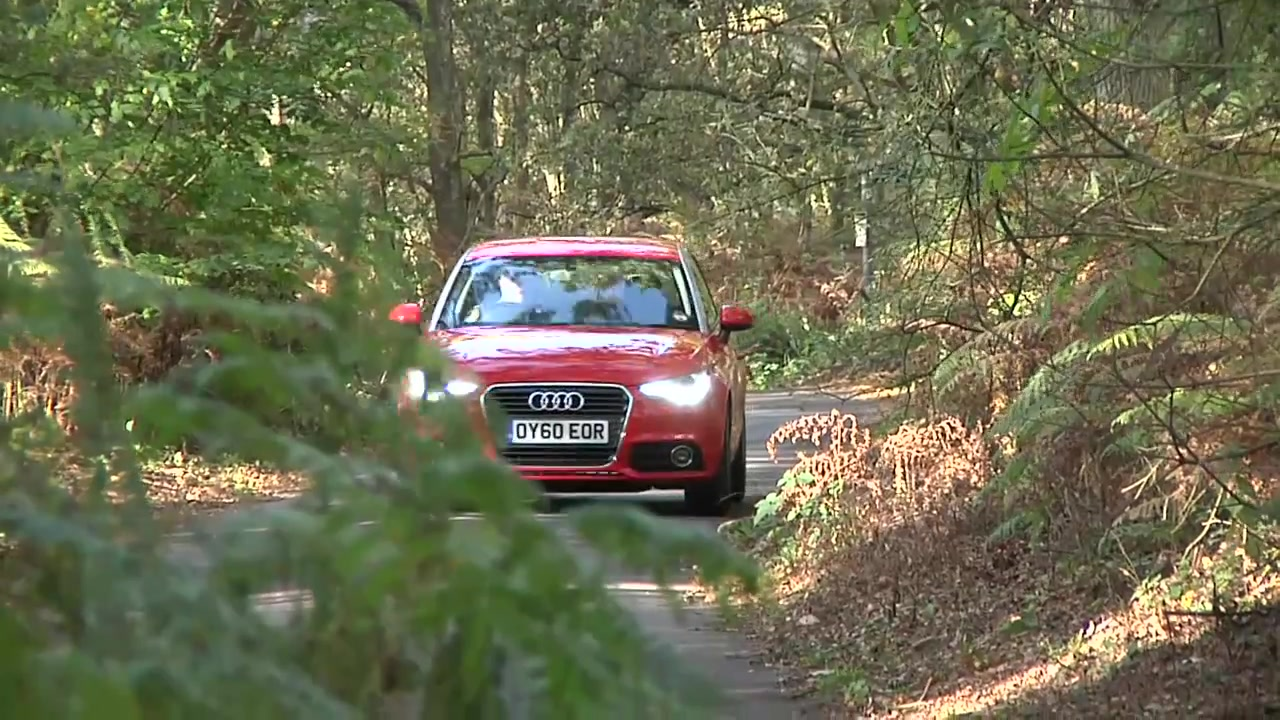car: (385, 229, 756, 521)
